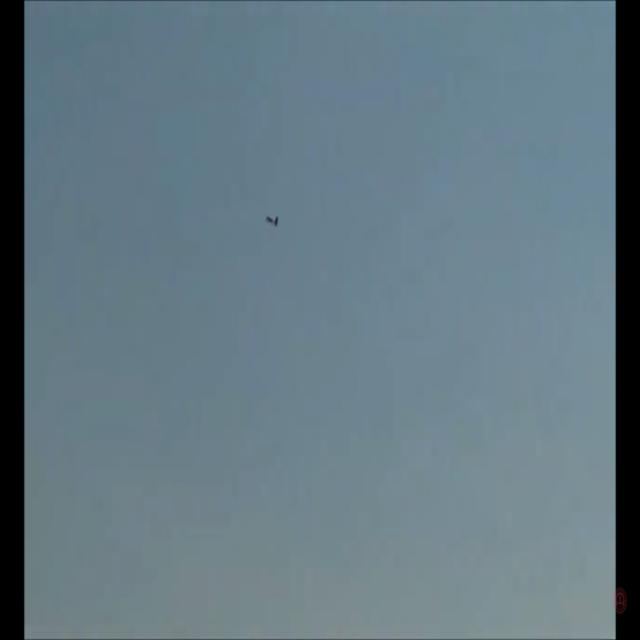iha: (264, 212, 280, 229)
